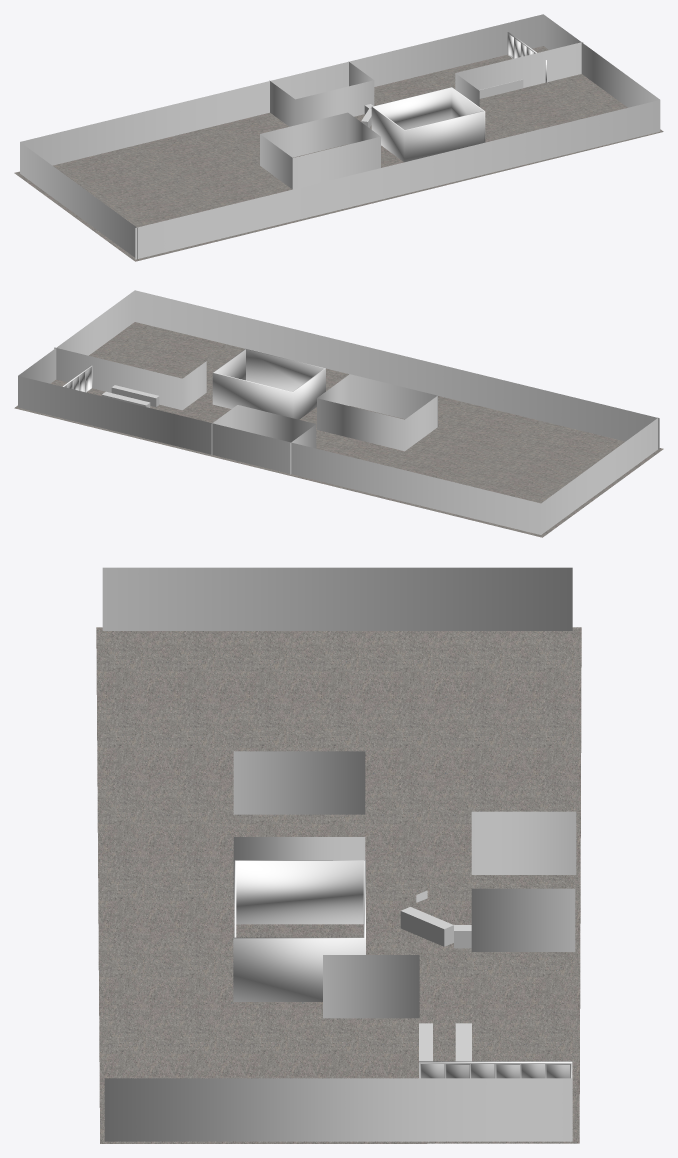
The model's file is TheFifth_v11.glb.
3 renders of one model, top to bottom at view 1: azimuth 30°, elevation 25°; view 2: azimuth 150°, elevation 25°; view 3: azimuth 270°, elevation 25°, orthographic. The views are drawn at different scales.
Visible parts, largest first — view 1: Wall, floor, Wall.003, Wall.004, Wall.002, Wall.001, Cube.001; view 2: Wall, floor, Wall.003, Wall.004, Wall.002, Wall.001, Cube.001; view 3: floor, Wall, Wall.004, Wall.001, Wall.003, Wall.002, FrontDesk2.
Boxes of the visible parts, bbox=[...] form: Wall: bbox=[20, 14, 660, 259]; floor: bbox=[14, 46, 663, 261]; Wall.003: bbox=[260, 112, 380, 189]; Wall.004: bbox=[371, 87, 485, 162]; Wall.002: bbox=[455, 42, 583, 106]; Wall.001: bbox=[269, 62, 374, 126]; Cube.001: bbox=[479, 79, 523, 98]; Wall: bbox=[18, 290, 659, 534]; floor: bbox=[14, 322, 663, 537]; Wall.003: bbox=[317, 374, 437, 451]; Wall.004: bbox=[212, 348, 325, 419]; Wall.002: bbox=[54, 347, 206, 410]; Wall.001: bbox=[211, 405, 316, 474]; Cube.001: bbox=[111, 385, 159, 406]; floor: bbox=[96, 627, 581, 1143]; Wall: bbox=[102, 567, 572, 1141]; Wall.004: bbox=[233, 860, 365, 1001]; Wall.001: bbox=[471, 811, 576, 951]; Wall.003: bbox=[233, 751, 365, 899]; Wall.002: bbox=[323, 955, 419, 1018]; FrontDesk2: bbox=[400, 907, 453, 946].
Bounding box in the file's own units: 62.97 × 3.66 × 25.
14 materials, 1 textured.
